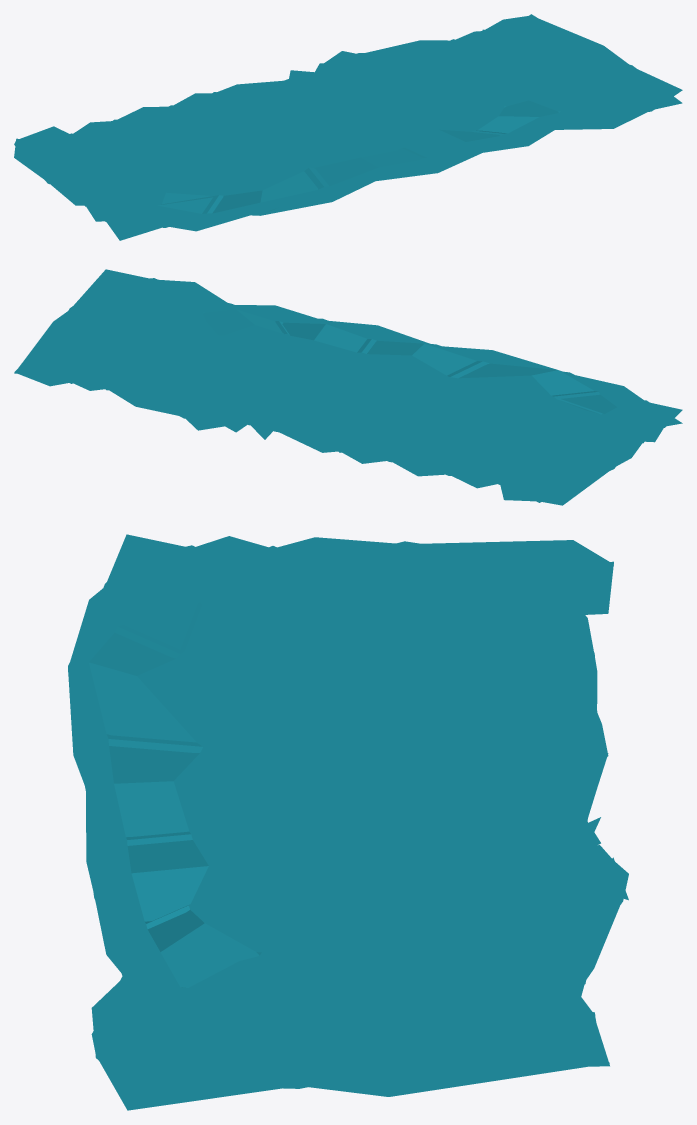
File: lake.glb
3 views of the same model, one above another, from view 1: azimuth 30°, elevation 25°; view 2: azimuth 150°, elevation 25°; view 3: azimuth 270°, elevation 25° (orthographic). The views are drawn at different scales.
Visible parts, largest first — view 1: LakeTop, LakeBot; view 2: LakeTop, LakeBot; view 3: LakeTop, LakeBot.
Boxes of the visible parts, x1,y1,x2,y2 form: LakeTop: [14, 16, 682, 227]; LakeBot: [14, 14, 682, 240]; LakeTop: [14, 269, 682, 502]; LakeBot: [14, 278, 682, 505]; LakeTop: [68, 534, 628, 1088]; LakeBot: [68, 541, 628, 1110].
Size of the model in its own units: 402 by 8.97 by 173.
